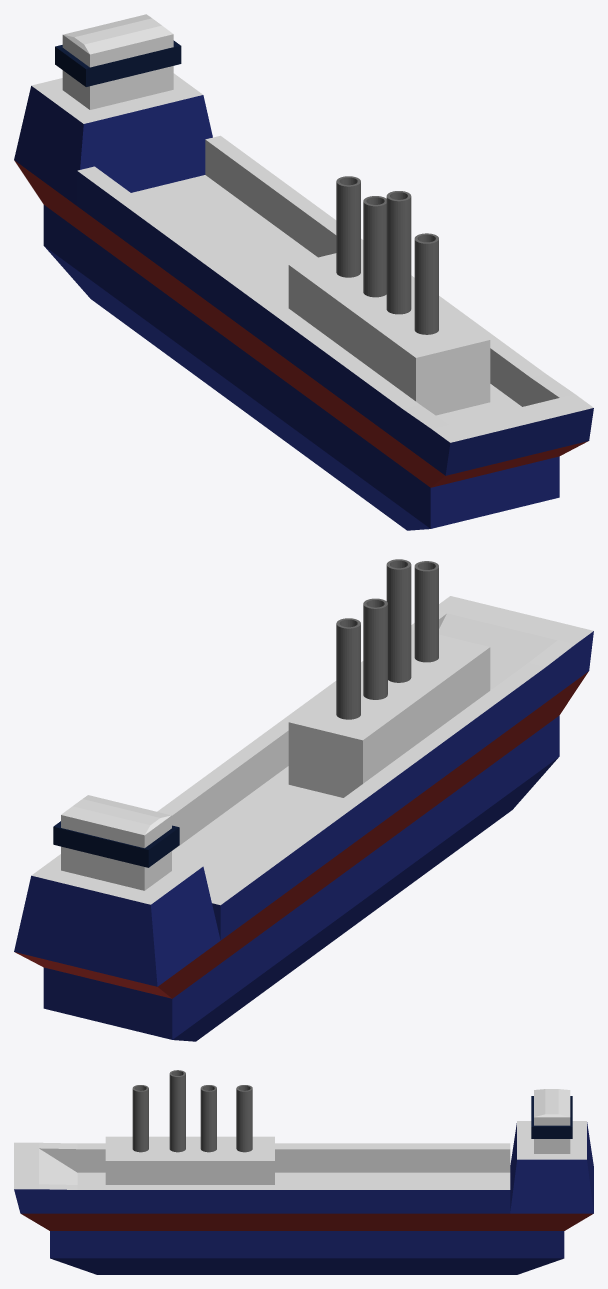
Rendered from Ship3.fbx.
3 renders of one model, top to bottom at view 1: azimuth 30°, elevation 25°; view 2: azimuth 150°, elevation 25°; view 3: azimuth 270°, elevation 25°, orthographic. The views are drawn at different scales.
Visible parts, largest first — view 1: Cube, Cube.003, Cube.001, Cube.004, Cube.002; view 2: Cube, Cube.003, Cube.002, Cube.001, Cube.004; view 3: Cube, Cube.003, Cube.001, Cube.002, Cube.004.
Boxes of the visible parts, <box> form: Cube: <box>14,14,593,530</box>; Cube.003: <box>386,191,411,314</box>; Cube.001: <box>336,176,360,277</box>; Cube.004: <box>414,233,438,334</box>; Cube.002: <box>363,196,386,297</box>; Cube: <box>14,596,593,1041</box>; Cube.003: <box>386,559,411,682</box>; Cube.002: <box>363,598,387,699</box>; Cube.001: <box>336,618,360,719</box>; Cube.004: <box>414,561,438,662</box>; Cube: <box>14,1089,593,1274</box>; Cube.003: <box>169,1070,185,1152</box>; Cube.001: <box>236,1085,252,1152</box>; Cube.002: <box>200,1085,216,1152</box>; Cube.004: <box>132,1085,148,1152</box>.
Bounding box in the file's own units: 223 × 412 × 1174.
